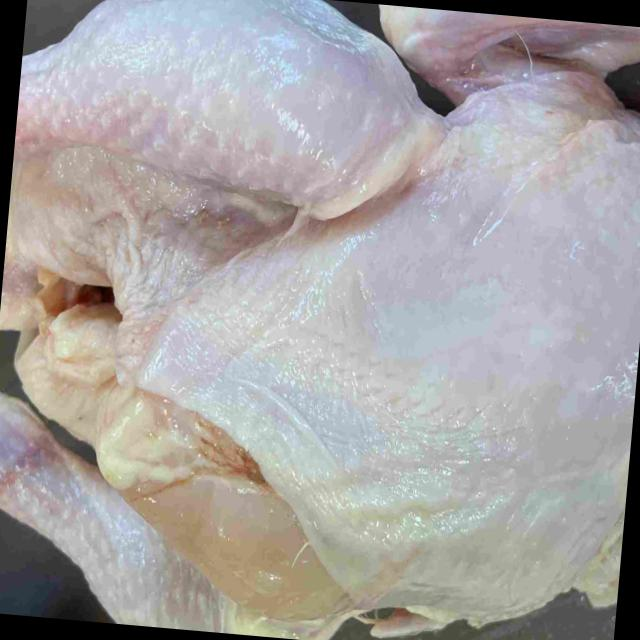breast: (111, 90, 640, 626)
leg: (14, 0, 422, 207), (0, 395, 343, 640)
neck: (574, 518, 624, 610)
wing: (384, 4, 640, 100)
